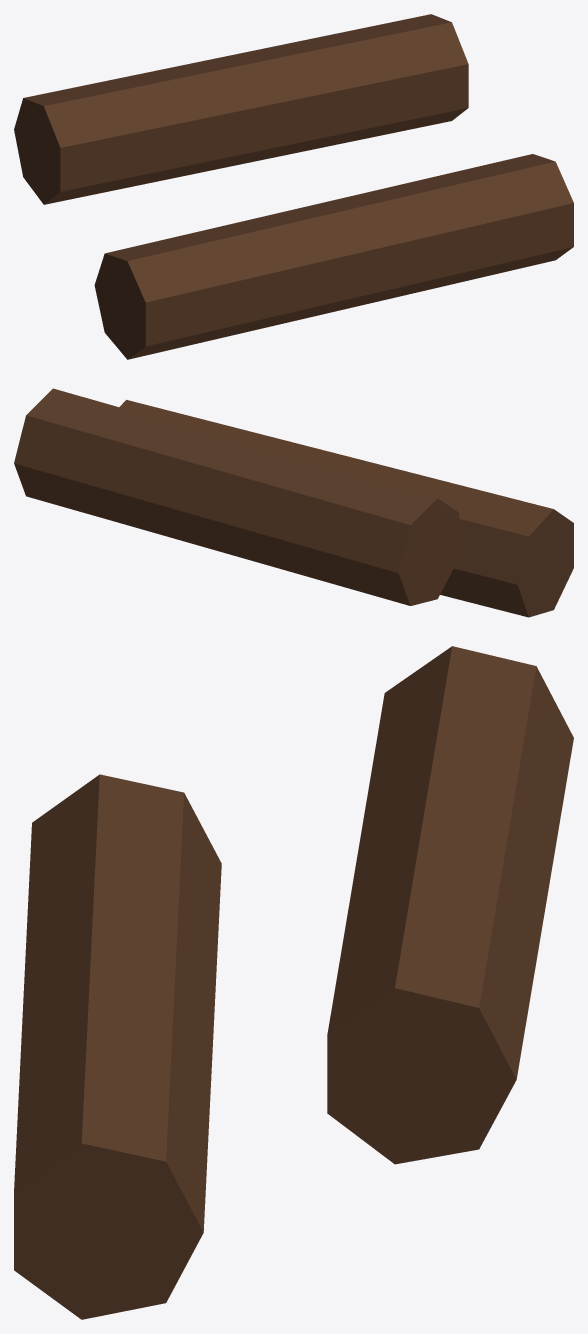
The model's file is SM_LPI_Fire_Logs_01.fbx.
3 views of the same model, one above another, from view 1: azimuth 30°, elevation 25°; view 2: azimuth 150°, elevation 25°; view 3: azimuth 270°, elevation 25° (orthographic). The views are drawn at different scales.
Visible parts, largest first — view 1: SM_LPI_Fire_Logs_01; view 2: SM_LPI_Fire_Logs_01; view 3: SM_LPI_Fire_Logs_01.
Boxes of the visible parts, x1=… form: SM_LPI_Fire_Logs_01: x1=14, y1=14, x2=573, y2=359; SM_LPI_Fire_Logs_01: x1=14, y1=388, x2=573, y2=617; SM_LPI_Fire_Logs_01: x1=14, y1=646, x2=573, y2=1319.
Bounding box in the file's own units: 0.4218 × 0.1686 × 0.2692.
